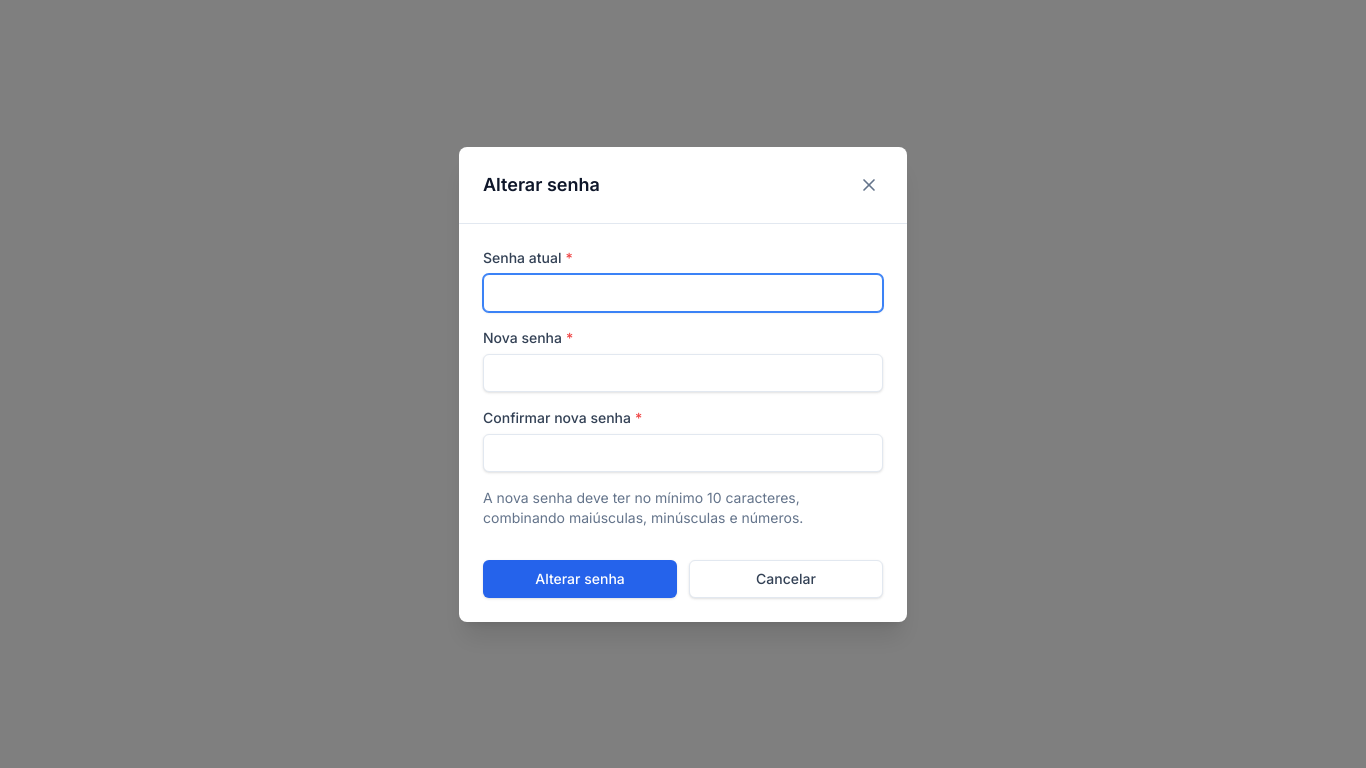
it: ChangePasswordModal › valida senha fraca antes de enviar
Type "12345678" into the password field labelled "Senha atual*" at (683, 292), box [483,274,883,312]
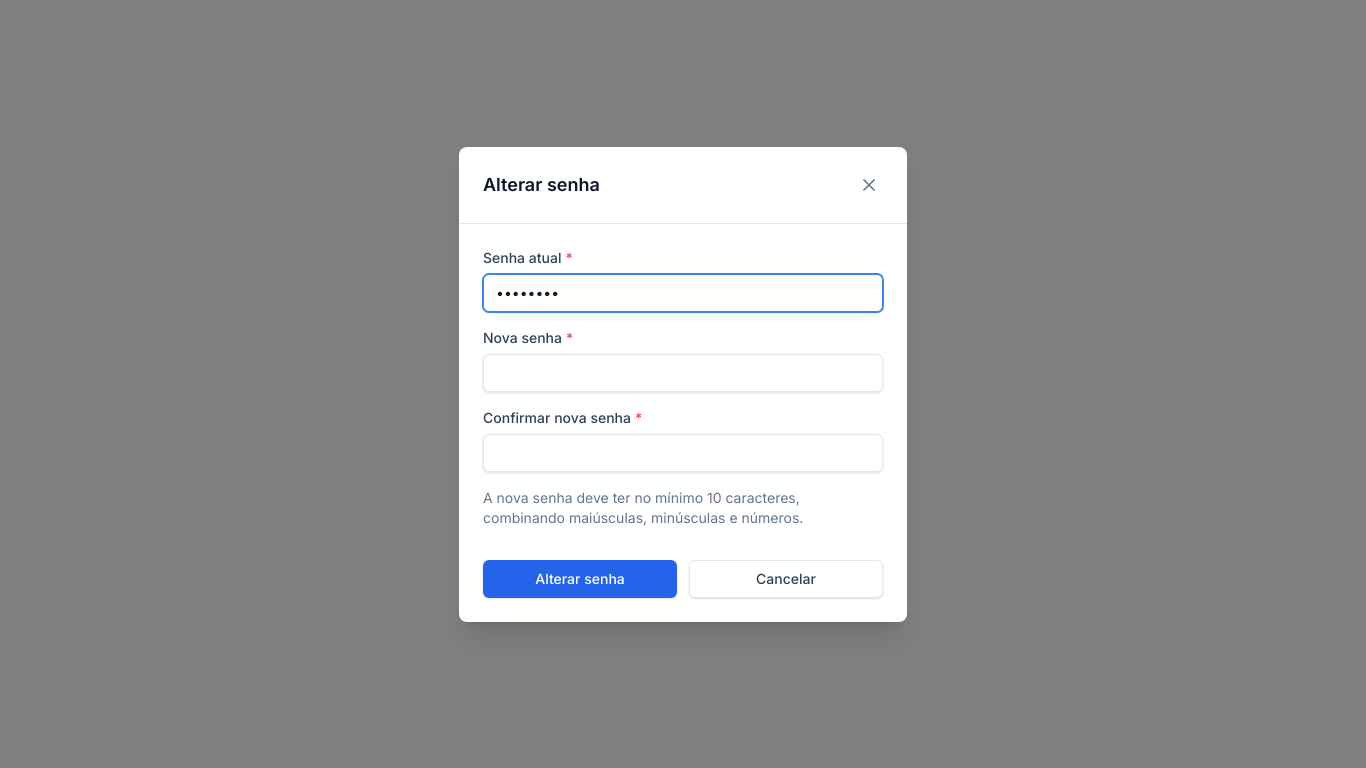
Type "1234567" into the password field labelled "Nova senha*" at (683, 372), box [483,354,883,392]
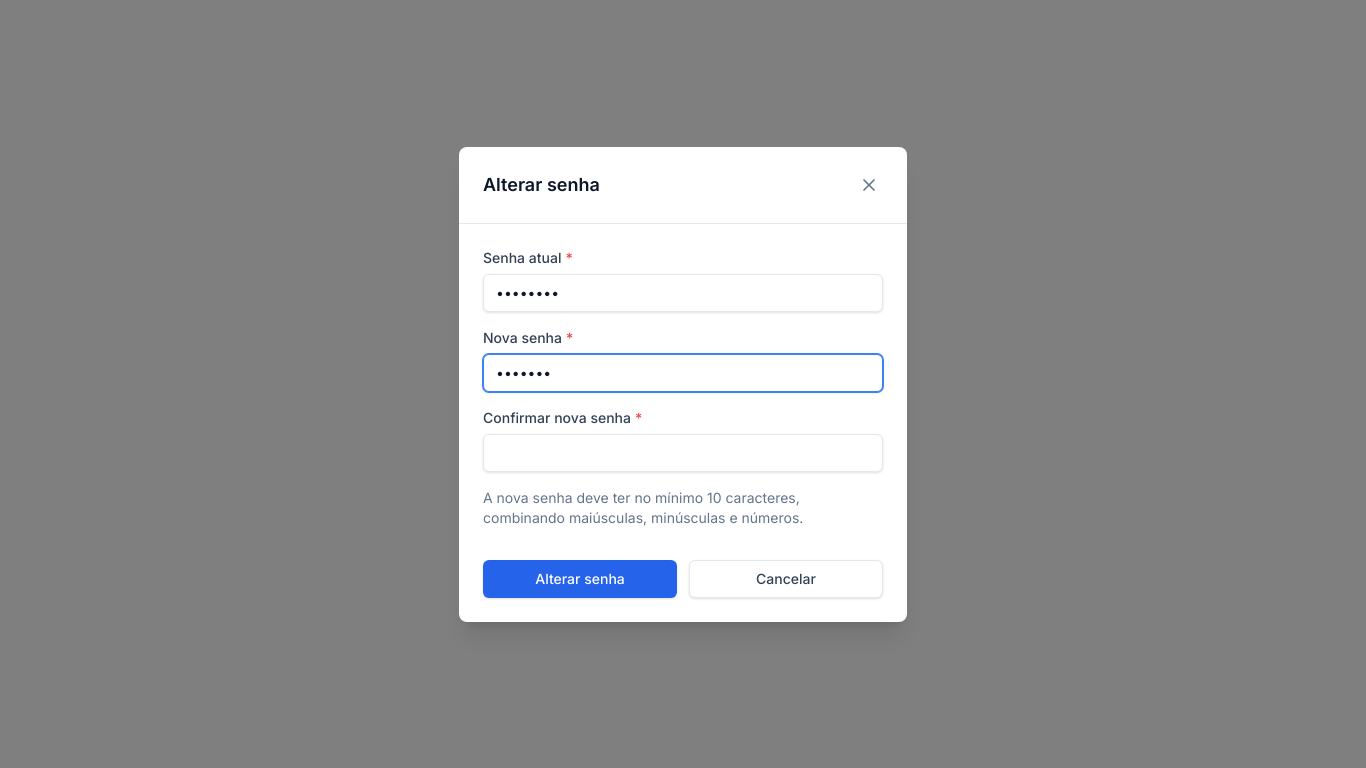
Type "1234567" into the password field labelled "Confirmar nova senha*" at (683, 452), box [483,434,883,472]
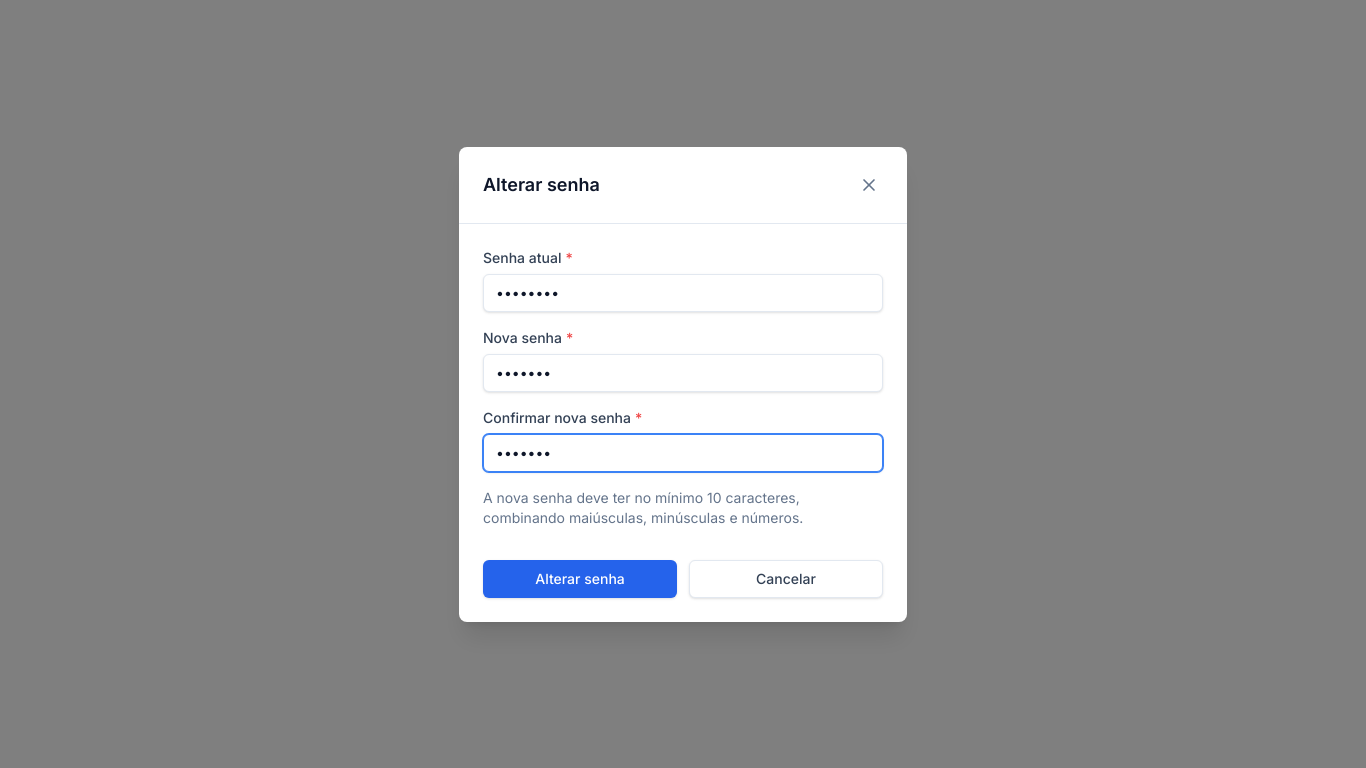
Click the button "Alterar senha" at (580, 578), box [483,560,677,598]
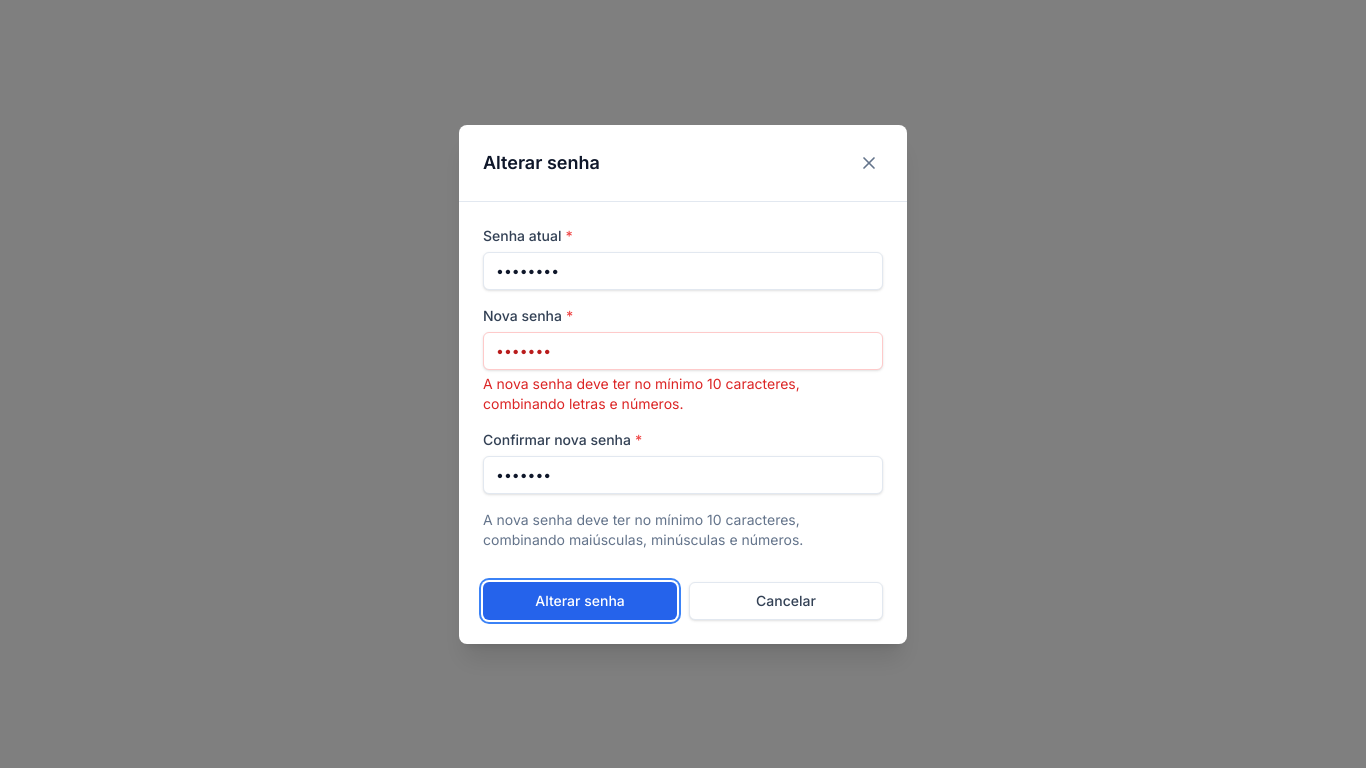
Expected: the text "A nova senha deve ter no mínimo 10 caracteres, combinando letras e números." is shown, [483,374,800,412]
